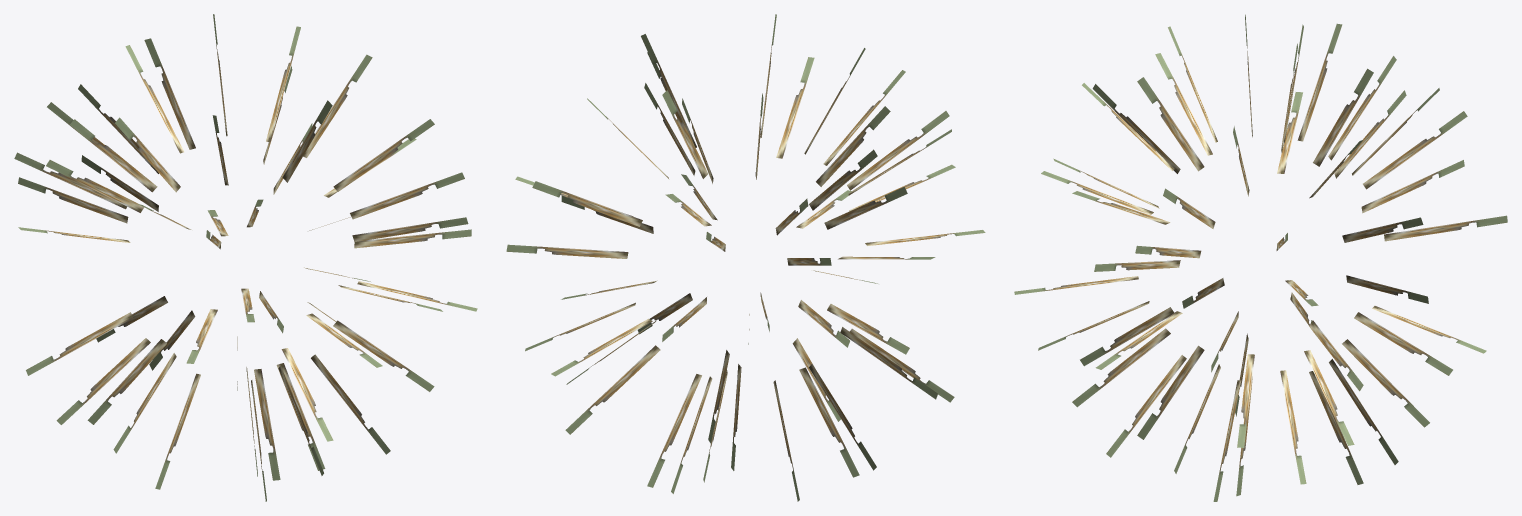
3 views of the same model, side by side, from view 1: azimuth 30°, elevation 25°; view 2: azimuth 150°, elevation 25°; view 3: azimuth 270°, elevation 25° (orthographic).
Parts seen in each view (by area): view 1: T1L2M003_23; view 2: T1L2M003_23; view 3: T1L2M003_23.
Part boxes in pixels (x1=…): T1L2M003_23: x1=14, y1=14, x2=477, y2=501; T1L2M003_23: x1=506, y1=14, x2=985, y2=501; T1L2M003_23: x1=1014, y1=14, x2=1507, y2=501.
Bounding box in the file's own units: 3.85 × 3.83 × 3.94.
